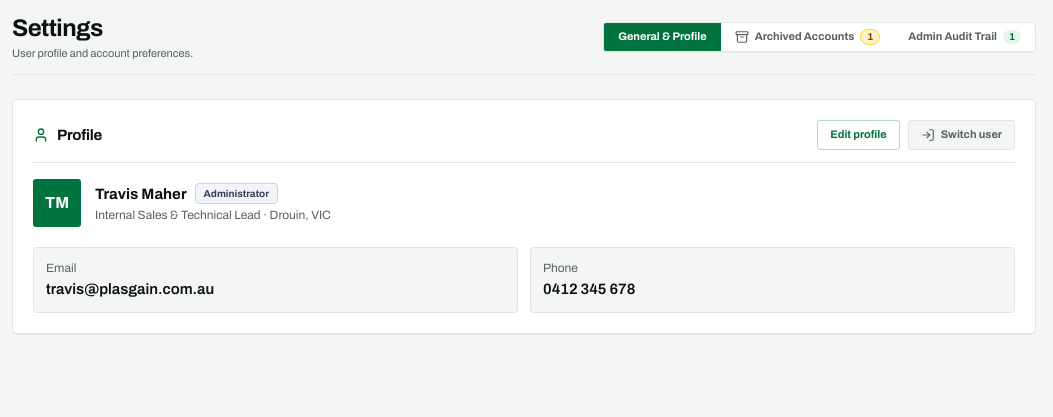
Test: SettingsView Component › displays archived accounts, allows restoring and permanently deleting them
This screenshot has width=1053, height=417.
Note: Switch to Archived Accounts tab
What coordinates should you click on to do the following:
click the button "Archived Accounts 1"
I would click on:
 (808, 37)
Its box is x1=721 y1=23 x2=894 y2=51.
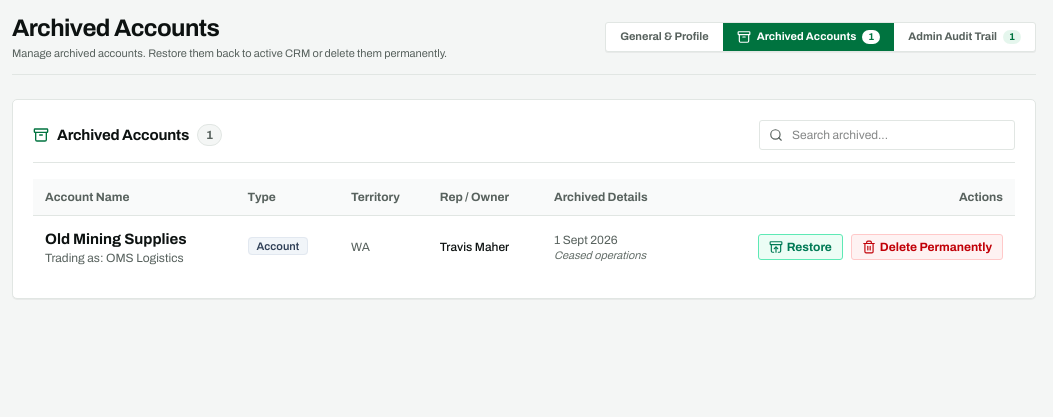
Check: the text "Old Mining Supplies" is shown, box x1=45 y1=231 x2=187 y2=247
Check: the text "Trading as: OMS Logistics" is shown, box x1=45 y1=251 x2=184 y2=265
Check: the text "Ceased operations" is shown, box x1=554 y1=249 x2=646 y2=261
What coordinates should you click on to do the following:
click the button with aria-label "Restore Old Mining Supplies"
I would click on:
 (800, 247)
Its box is x1=758 y1=234 x2=843 y2=260.
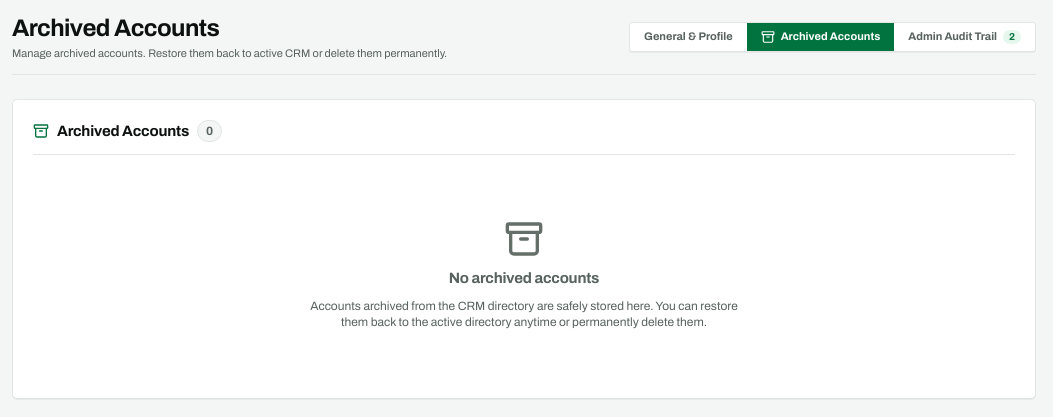
Check: the heading "No archived accounts" is shown, box x1=449 y1=270 x2=599 y2=286
